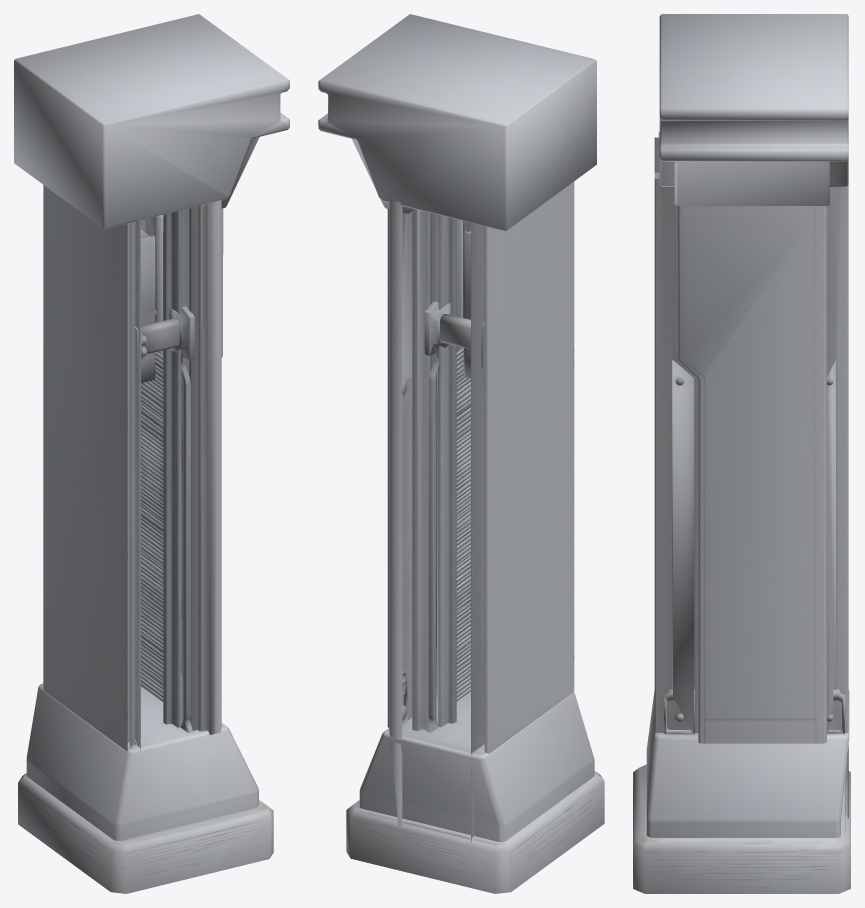
The model's file is tripo_convert_5db7f26d-42c9-4bf3-a784-5ab8cf658639.fbx.
3 renders of one model, left to right at view 1: azimuth 30°, elevation 25°; view 2: azimuth 150°, elevation 25°; view 3: azimuth 270°, elevation 25°, orthographic. The views are drawn at different scales.
Parts seen in each view (by area): view 1: tripo_part_254, tripo_part_3, tripo_part_4, tripo_part_72, tripo_part_60, tripo_part_7, tripo_part_135, tripo_part_104, tripo_part_1, tripo_part_55, tripo_part_47; view 2: tripo_part_254, tripo_part_3, tripo_part_4, tripo_part_0, tripo_part_60, tripo_part_72, tripo_part_108, tripo_part_104, tripo_part_18, tripo_part_1, tripo_part_58, tripo_part_47; view 3: tripo_part_18, tripo_part_3, tripo_part_72, tripo_part_4, tripo_part_60, tripo_part_73.
Boxes of the visible parts, bbox=[...] form: tripo_part_254: bbox=[43, 185, 127, 751]; tripo_part_3: bbox=[14, 14, 289, 228]; tripo_part_4: bbox=[26, 683, 258, 841]; tripo_part_72: bbox=[145, 198, 221, 734]; tripo_part_60: bbox=[18, 773, 273, 893]; tripo_part_7: bbox=[163, 209, 194, 732]; tripo_part_135: bbox=[127, 221, 135, 748]; tripo_part_104: bbox=[135, 218, 140, 751]; tripo_part_1: bbox=[141, 230, 155, 382]; tripo_part_55: bbox=[141, 318, 179, 353]; tripo_part_47: bbox=[155, 215, 163, 447]; tripo_part_254: bbox=[484, 181, 574, 753]; tripo_part_3: bbox=[318, 14, 596, 231]; tripo_part_4: bbox=[359, 691, 594, 841]; tripo_part_0: bbox=[424, 213, 456, 732]; tripo_part_60: bbox=[346, 771, 604, 893]; tripo_part_72: bbox=[389, 200, 461, 825]; tripo_part_108: bbox=[412, 208, 431, 730]; tripo_part_104: bbox=[471, 222, 484, 841]; tripo_part_18: bbox=[387, 209, 466, 727]; tripo_part_1: bbox=[463, 230, 470, 378]; tripo_part_58: bbox=[440, 314, 470, 349]; tripo_part_47: bbox=[456, 219, 462, 488]; tripo_part_18: bbox=[677, 206, 835, 743]; tripo_part_3: bbox=[659, 14, 848, 205]; tripo_part_72: bbox=[654, 172, 848, 817]; tripo_part_4: bbox=[646, 690, 849, 837]; tripo_part_60: bbox=[633, 764, 850, 893]; tripo_part_73: bbox=[672, 359, 694, 733].
Size of the model in its own units: 0.2573 by 0.9995 by 0.2476.
Materials: 1 (1 with a texture image).
